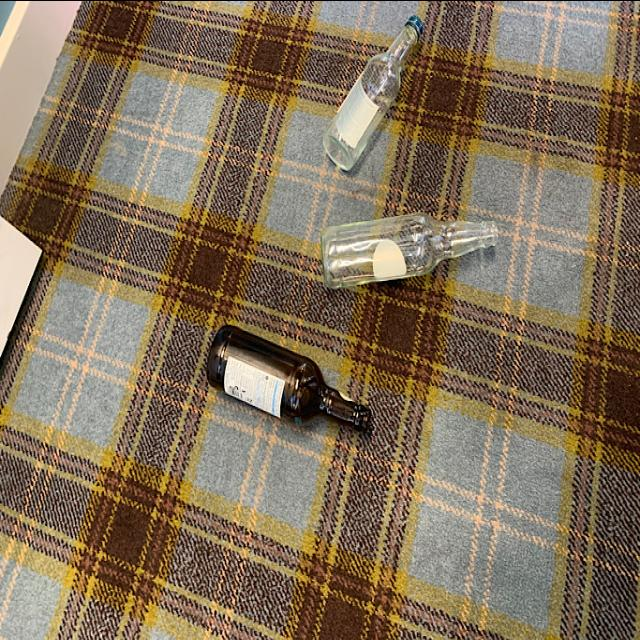litter: (202, 324, 376, 434), (324, 12, 430, 172), (318, 202, 500, 294)
